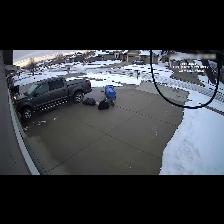person: (96, 99, 114, 109)
